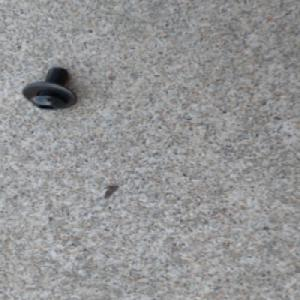BoltWasher: (20, 66, 79, 111)
